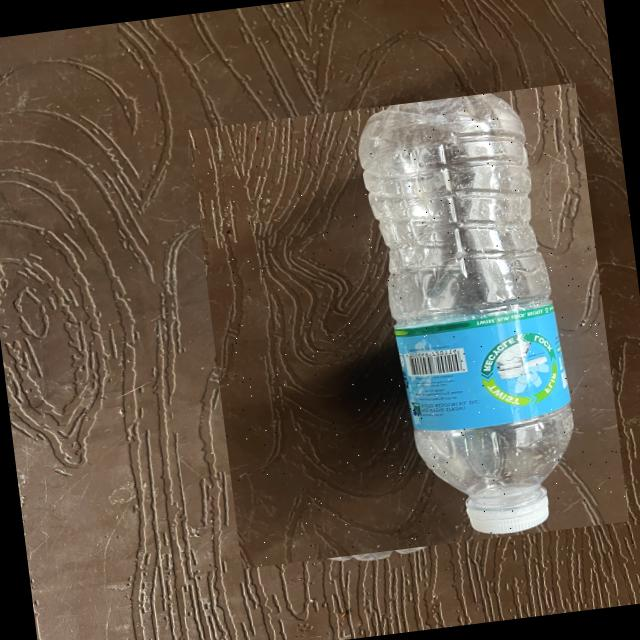REJECT: (188, 82, 629, 568)
